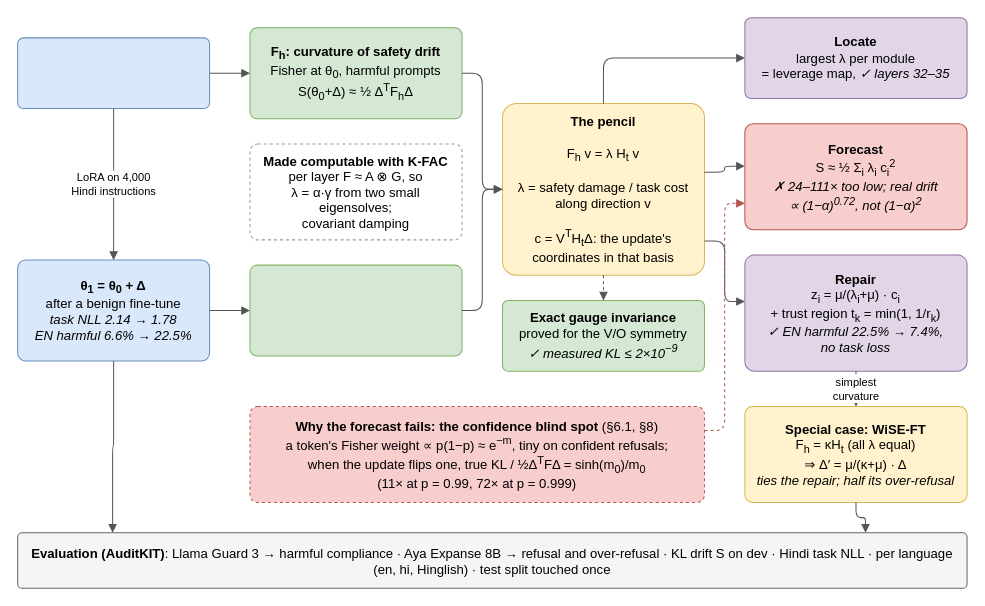
This 985x606 diagram has some shape labels left out. Each missing label, with the box of its shape:
H t : curvature of task loss Fisher at θ 1 , Hindi task rows R(δ) = ½ δ T H t δ: (249, 264, 462, 356)
θ 0 : aligned model Tiny Aya Global, 3.3B: (17, 37, 210, 109)
